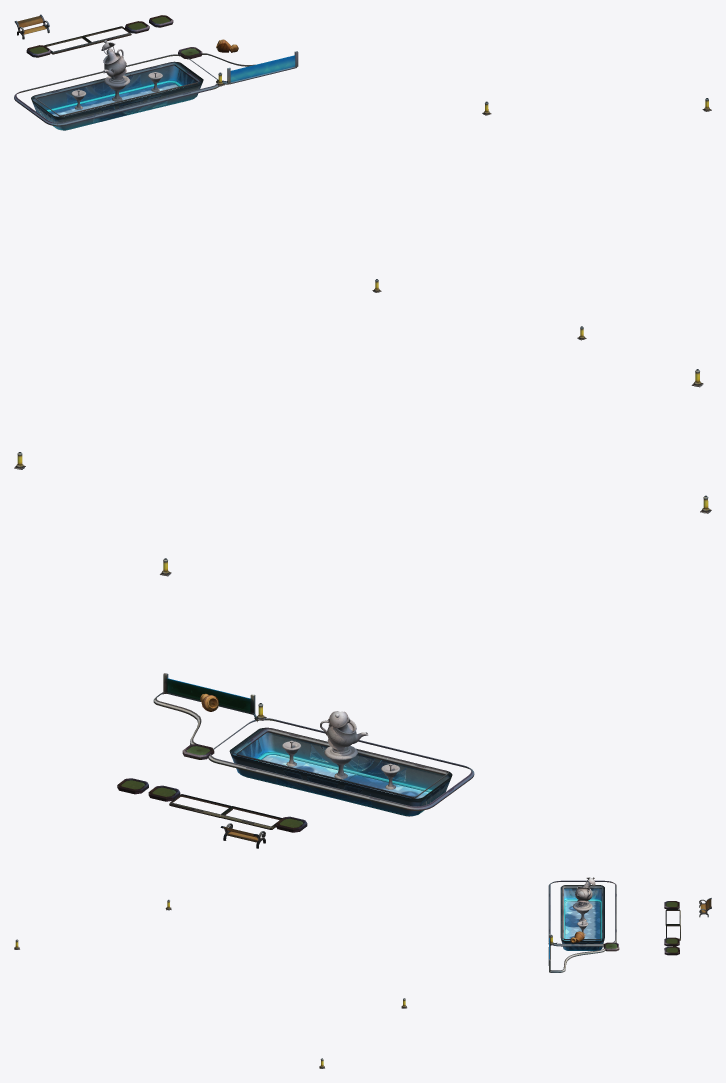
The model's file is pref_sm_garden_props_vray_004_lv2.fbx.
3 renders of one model, top to bottom at view 1: azimuth 30°, elevation 25°; view 2: azimuth 150°, elevation 25°; view 3: azimuth 270°, elevation 25°, orthographic. The views are drawn at different scales.
Visible parts, largest first — view 1: pref_sm_garden_props_vray_004_lv2; view 2: pref_sm_garden_props_vray_004_lv2; view 3: pref_sm_garden_props_vray_004_lv2.
Boxes of the visible parts, box(x1,y1,x2,y2) form: pref_sm_garden_props_vray_004_lv2: box(14, 14, 711, 340); pref_sm_garden_props_vray_004_lv2: box(14, 369, 711, 848); pref_sm_garden_props_vray_004_lv2: box(14, 877, 711, 1068).
Size of the model in its own units: 58.46 by 6.83 by 90.87.
